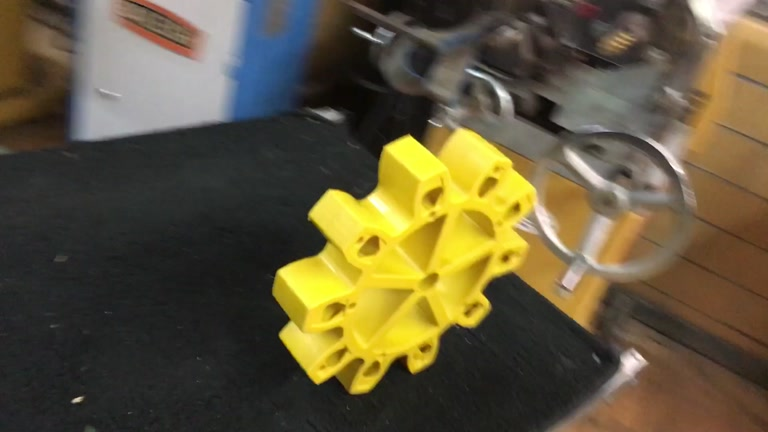gear: (273, 128, 538, 398)
